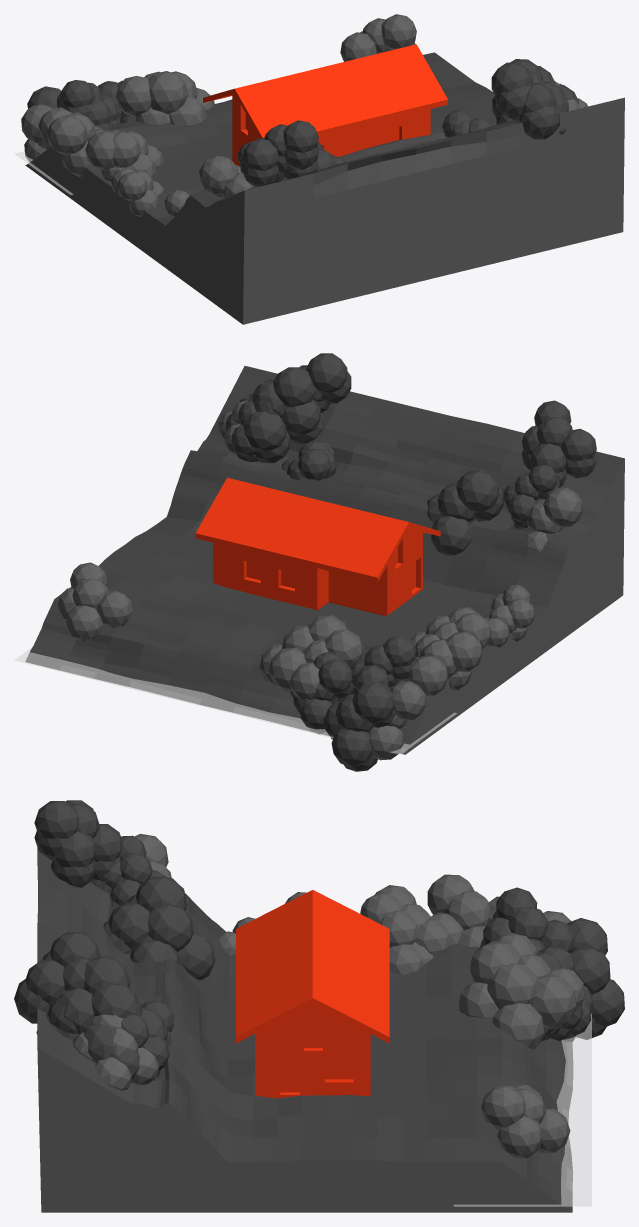
Rendered from CHATA.glb.
The picture shows the model from 3 angles, top to bottom: view 1: azimuth 30°, elevation 25°; view 2: azimuth 150°, elevation 25°; view 3: azimuth 270°, elevation 25°; orthographic projection. The views are drawn at different scales.
Visible parts, largest first — view 1: Plane.002, Plane, Plane.001, Icosphere.007, Icosphere.001, Icosphere.013, Icosphere.017, Icosphere.002, Plane.005, Icosphere.011, Icosphere.014, Icosphere.015 (+9 smaller); view 2: Plane.001, Plane, Plane.002, Plane.005, Icosphere.005, Icosphere.020, Icosphere.001, Plane.004, Icosphere.008, Icosphere.002, Icosphere.007, Icosphere.017 (+12 smaller); view 3: Plane.001, Plane.002, Plane, Icosphere.013, Icosphere.005, Plane.005, Icosphere.001, Plane.004, Icosphere.008, Icosphere.007, Icosphere.002, Icosphere.020 (+11 smaller).
Boxes of the visible parts, x1=… form: Plane.002: x1=25, y1=97, x2=624, y2=324; Plane: x1=203, y1=44, x2=447, y2=165; Plane.001: x1=144, y1=52, x2=516, y2=207; Icosphere.007: x1=491, y1=62, x2=568, y2=139; Icosphere.001: x1=242, y1=120, x2=318, y2=186; Icosphere.013: x1=144, y1=71, x2=214, y2=126; Icosphere.017: x1=38, y1=107, x2=102, y2=177; Icosphere.002: x1=340, y1=14, x2=416, y2=61; Plane.005: x1=86, y1=120, x2=519, y2=225; Icosphere.011: x1=57, y1=80, x2=120, y2=130; Icosphere.014: x1=111, y1=167, x2=163, y2=216; Icosphere.015: x1=109, y1=129, x2=163, y2=176; Plane.001: x1=25, y1=386, x2=624, y2=748; Plane: x1=195, y1=477, x2=440, y2=616; Plane.002: x1=60, y1=449, x2=624, y2=754; Plane.005: x1=216, y1=366, x2=599, y2=725; Icosphere.005: x1=427, y1=470, x2=503, y2=555; Icosphere.020: x1=323, y1=682, x2=395, y2=771; Icosphere.001: x1=521, y1=400, x2=596, y2=487; Plane.004: x1=14, y1=647, x2=456, y2=754; Icosphere.008: x1=239, y1=367, x2=318, y2=463; Icosphere.002: x1=57, y1=562, x2=132, y2=641; Icosphere.007: x1=281, y1=353, x2=351, y2=444; Icosphere.017: x1=408, y1=632, x2=482, y2=695; Plane.001: x1=37, y1=847, x2=572, y2=1212; Plane.002: x1=37, y1=864, x2=573, y2=1212; Plane: x1=236, y1=890, x2=389, y2=1098; Icosphere.013: x1=459, y1=941, x2=575, y2=1049; Icosphere.005: x1=103, y1=876, x2=215, y2=979; Plane.005: x1=37, y1=882, x2=479, y2=1088; Icosphere.001: x1=34, y1=800, x2=122, y2=887; Plane.004: x1=453, y1=1013, x2=591, y2=1206; Icosphere.008: x1=57, y1=956, x2=167, y2=1063; Icosphere.007: x1=14, y1=932, x2=100, y2=1035; Icosphere.002: x1=481, y1=1085, x2=570, y2=1158; Icosphere.020: x1=567, y1=918, x2=624, y2=1039.
Size of the model in its own units: 8.32 by 3.96 by 8.83.
